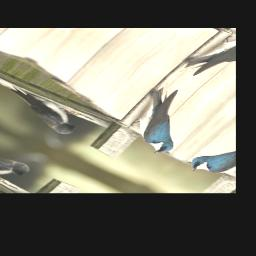Swallow: (108, 83, 218, 157)
